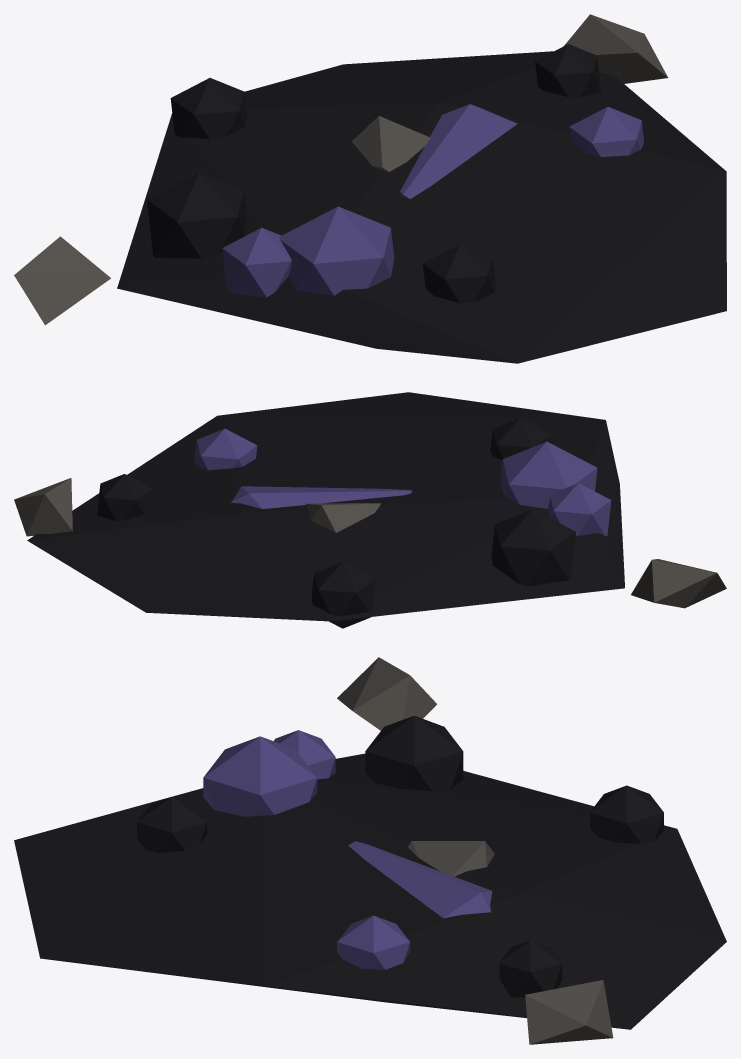
The model's file is minerai_petrole_1.glb.
The picture shows the model from 3 angles, top to bottom: view 1: azimuth 30°, elevation 25°; view 2: azimuth 150°, elevation 25°; view 3: azimuth 270°, elevation 25°; orthographic projection. The views are drawn at different scales.
Parts seen in each view (by area): view 1: petrole_petrole.004, petrole_irise.004, petrole_pierre_sombre.004; view 2: petrole_petrole.004, petrole_irise.004, petrole_pierre_sombre.004; view 3: petrole_petrole.004, petrole_irise.004, petrole_pierre_sombre.004.
Part boxes in pixels (bbox=[...]): petrole_petrole.004: bbox=[117, 44, 726, 363]; petrole_irise.004: bbox=[222, 104, 644, 297]; petrole_pierre_sombre.004: bbox=[14, 14, 667, 325]; petrole_petrole.004: bbox=[27, 392, 624, 628]; petrole_irise.004: bbox=[194, 428, 611, 536]; petrole_pierre_sombre.004: bbox=[14, 478, 726, 608]; petrole_petrole.004: bbox=[14, 715, 726, 1029]; petrole_irise.004: bbox=[203, 730, 492, 969]; petrole_pierre_sombre.004: bbox=[337, 657, 613, 1044].
Size of the model in its own units: 0.4017 by 0.0644 by 0.3423.
